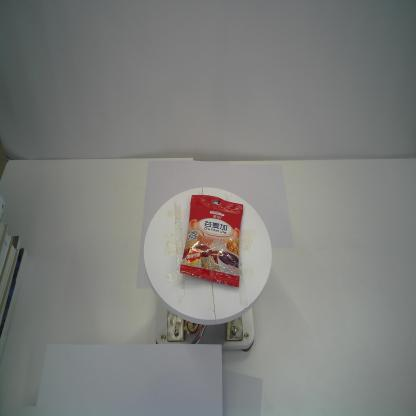Instant Drink: (180, 193, 244, 288)
